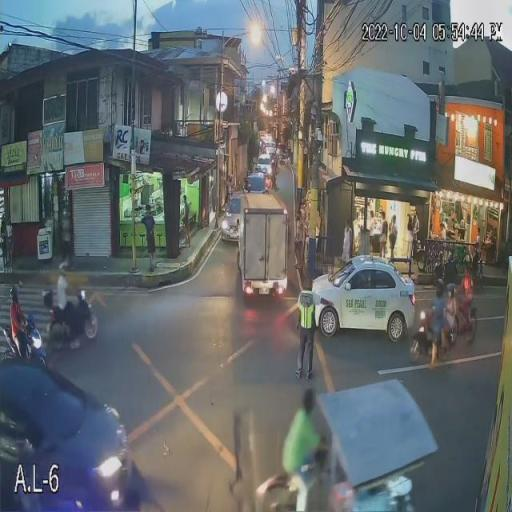helmet: (8, 280, 24, 302), (432, 278, 444, 296), (58, 262, 70, 276)
motorcycle: (38, 289, 100, 355), (410, 306, 459, 364), (0, 313, 47, 366), (447, 302, 477, 351)
rider: (427, 278, 451, 361), (9, 281, 31, 346), (454, 268, 472, 329), (54, 274, 71, 332)
